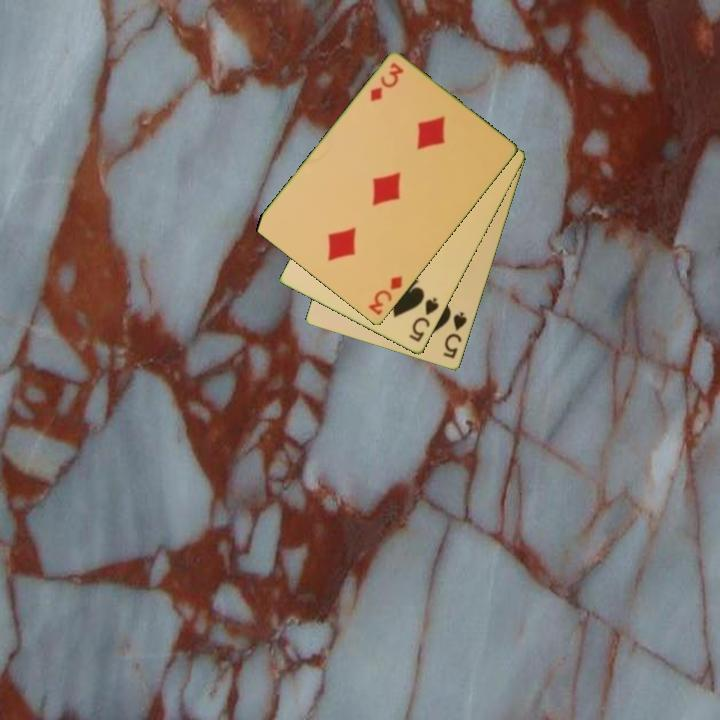3d: (365, 272, 406, 319), (367, 59, 407, 105)
5s: (406, 294, 442, 345), (439, 309, 470, 362)
